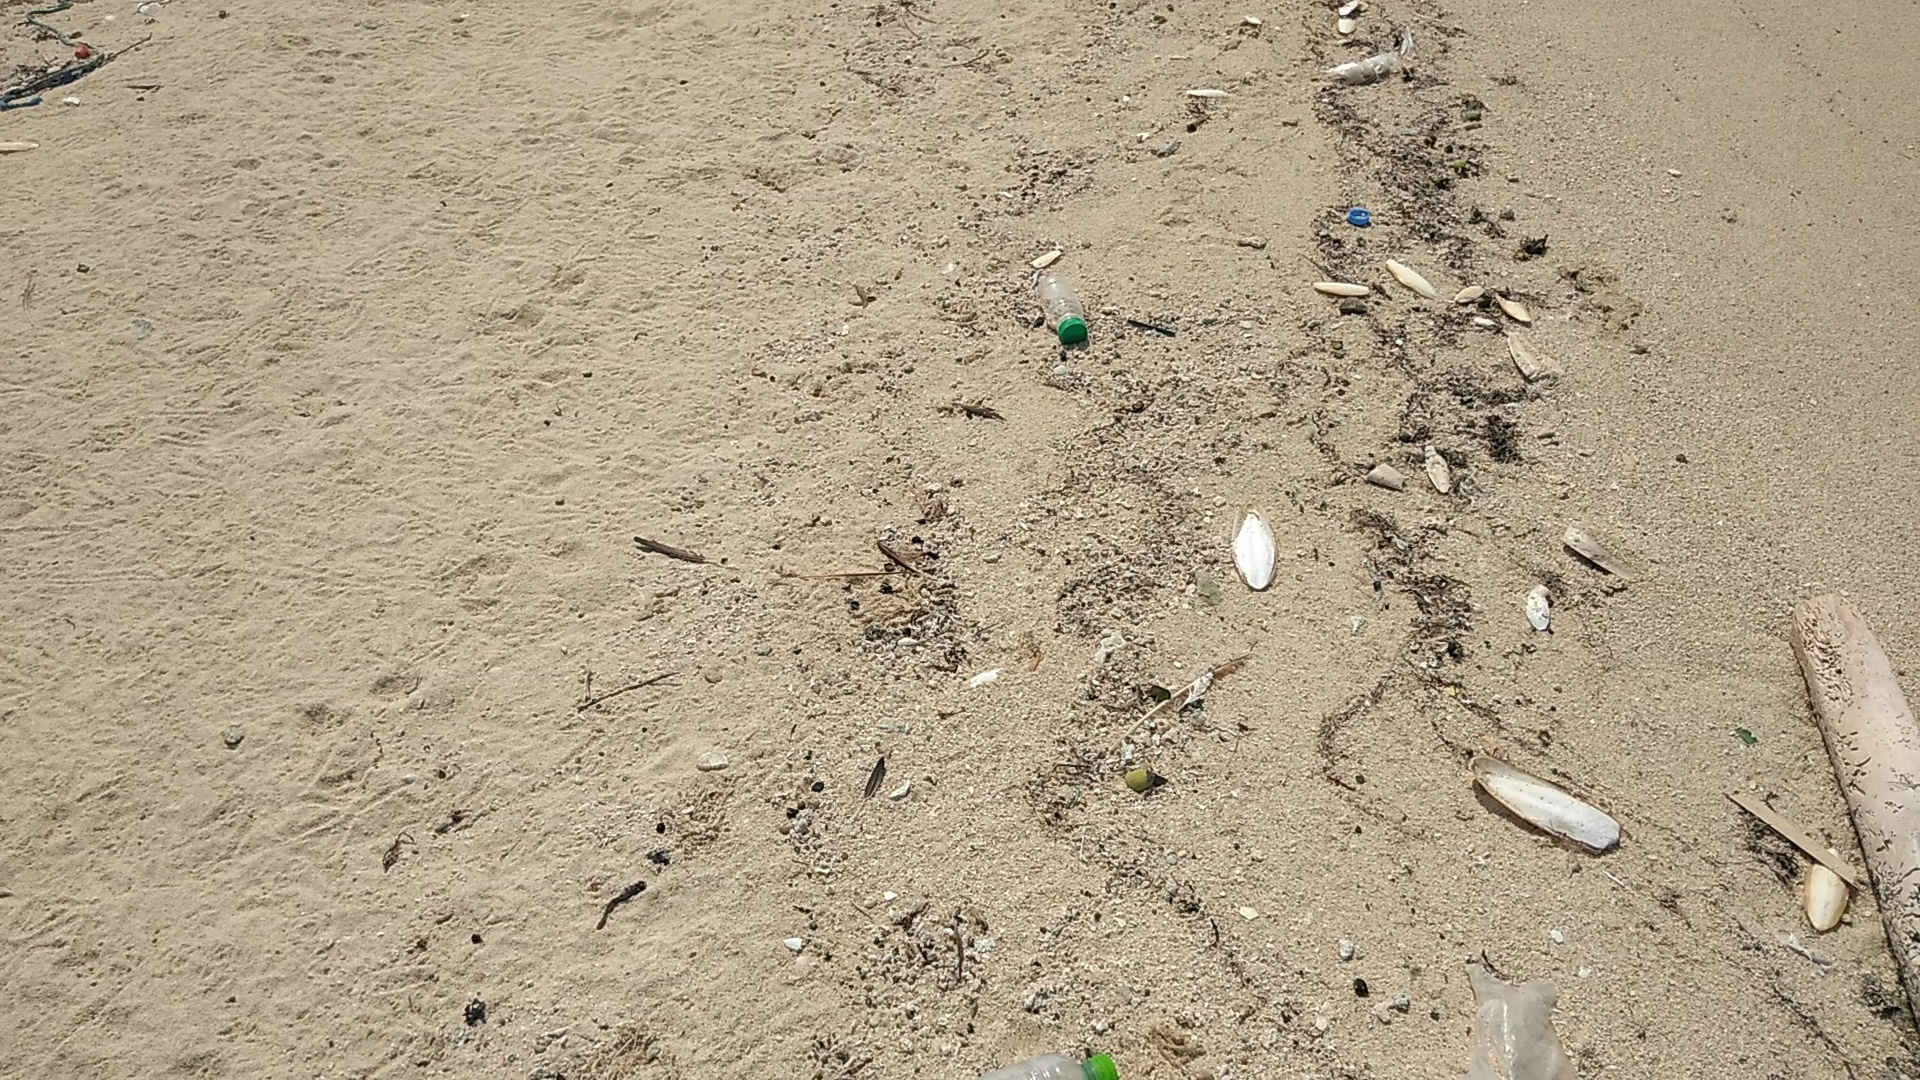plastic: (1458, 957, 1578, 1080), (969, 1047, 1124, 1080), (1033, 270, 1098, 347)
processed wood: (1789, 592, 1920, 1015)
